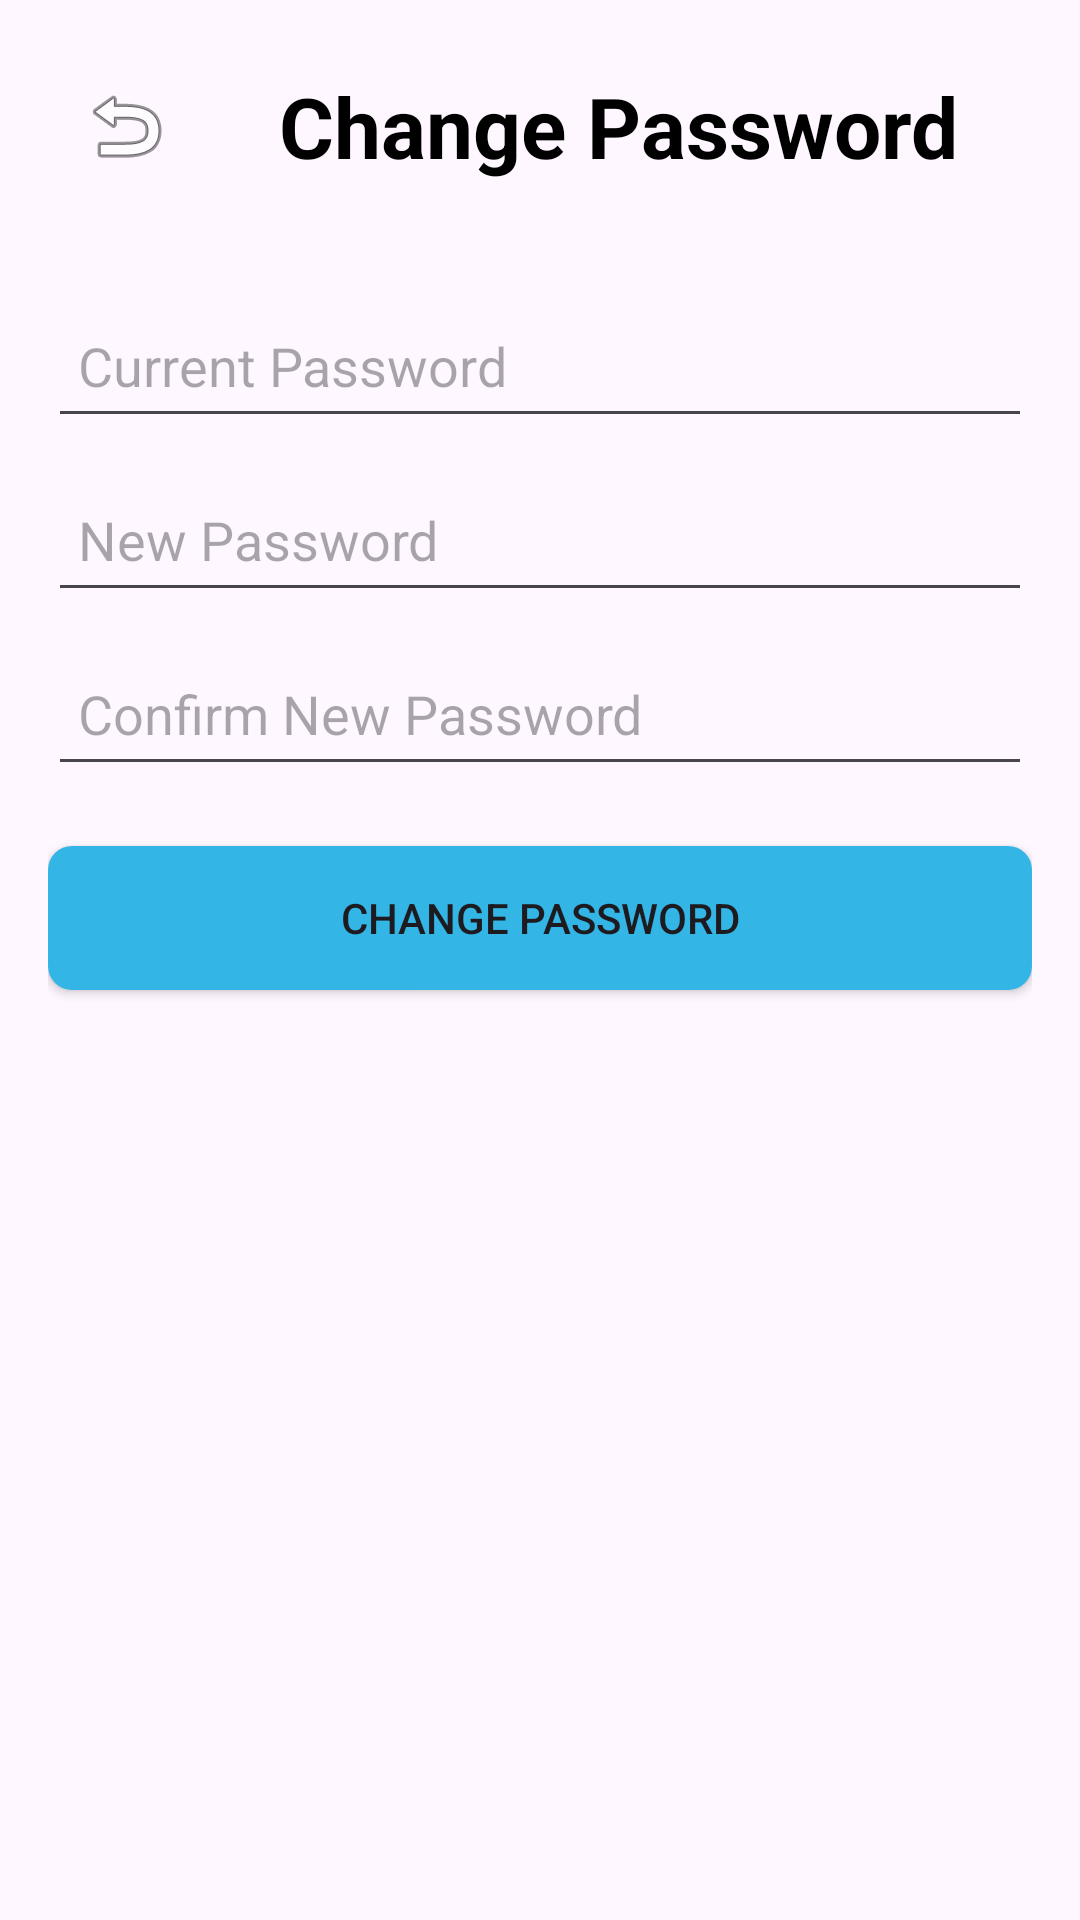

Icon bounding boxes for this 1080px×1920px phone screenshot, format (x1,y1,x2,y2):
revert: (93,95,162,158)
